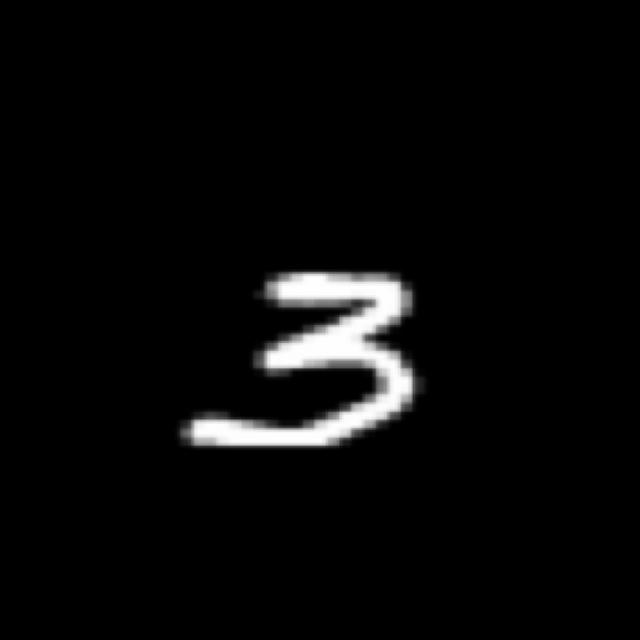three -3-: (187, 260, 426, 455)
